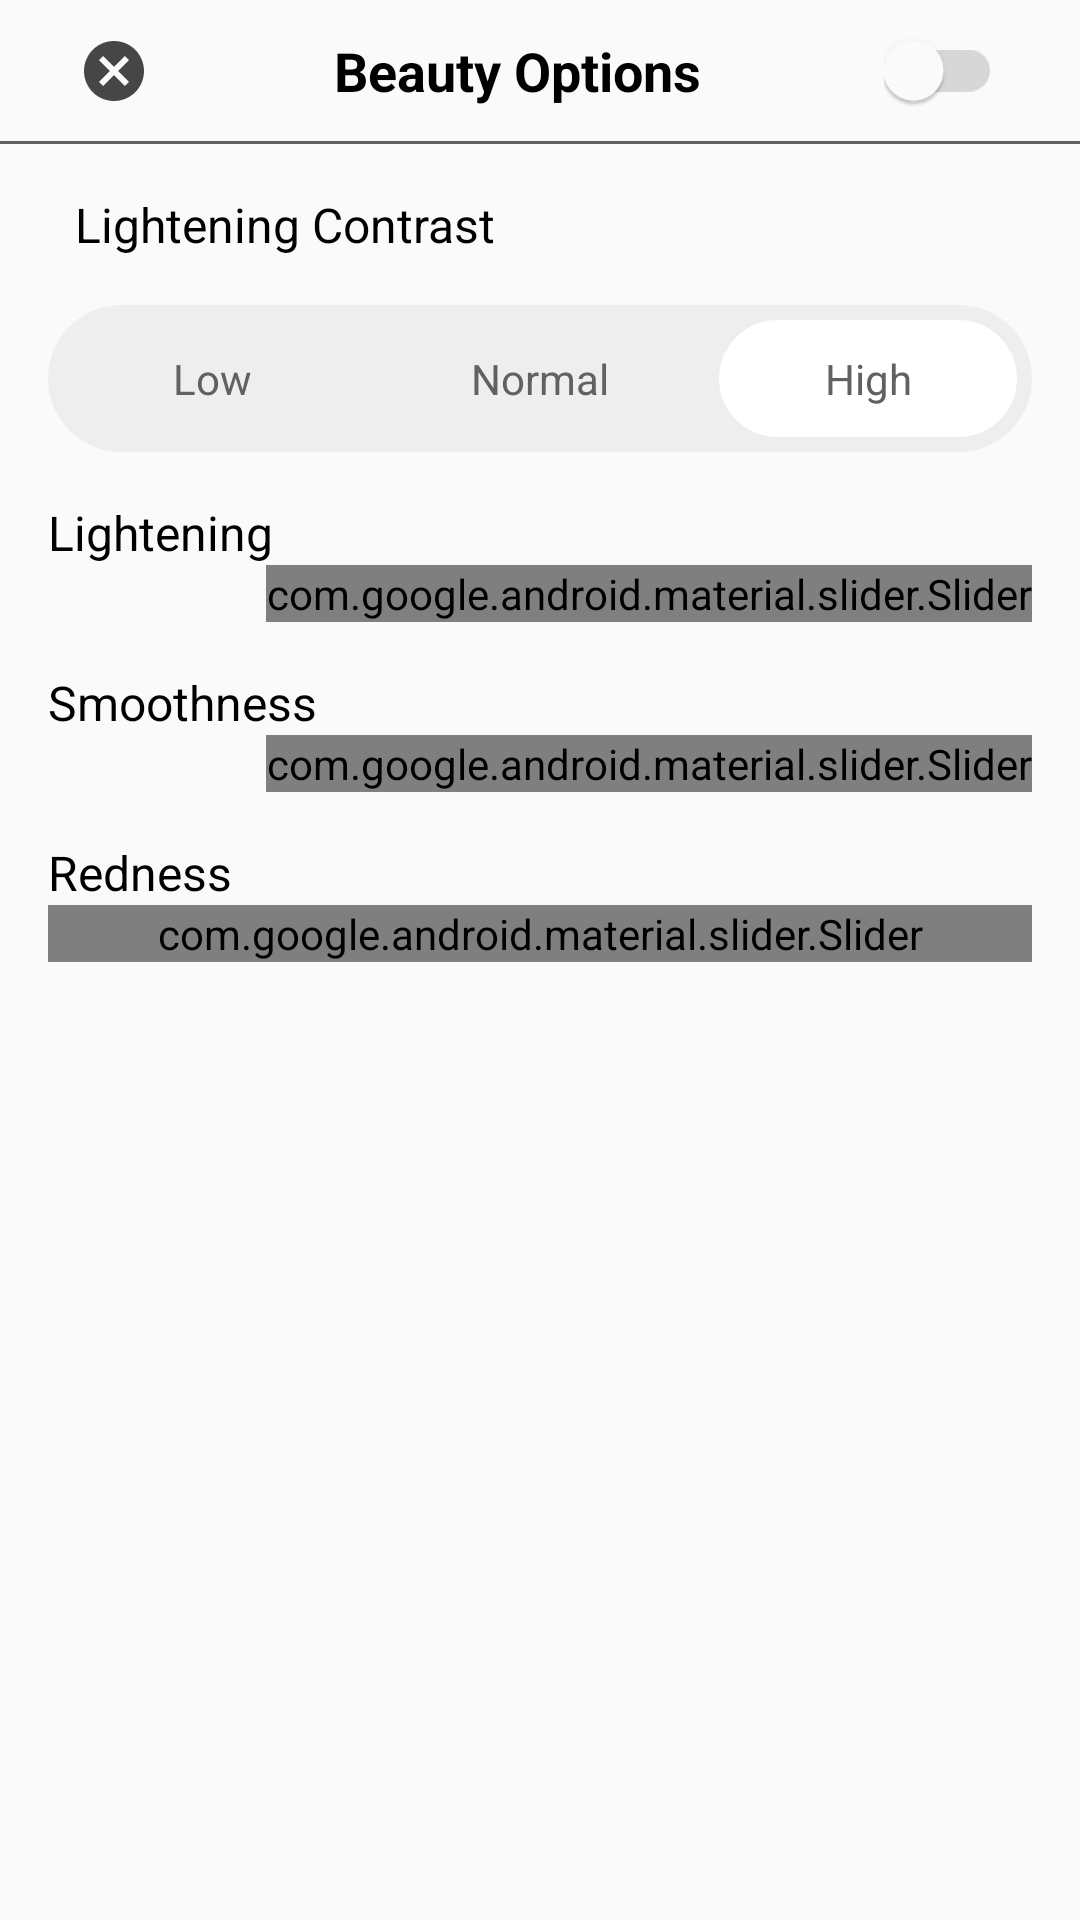

Locate icon controls on the screen. Image size 1080 × 1920, boxes as (x1, y1, x2, y2).
cancel: (84, 41, 144, 101)
